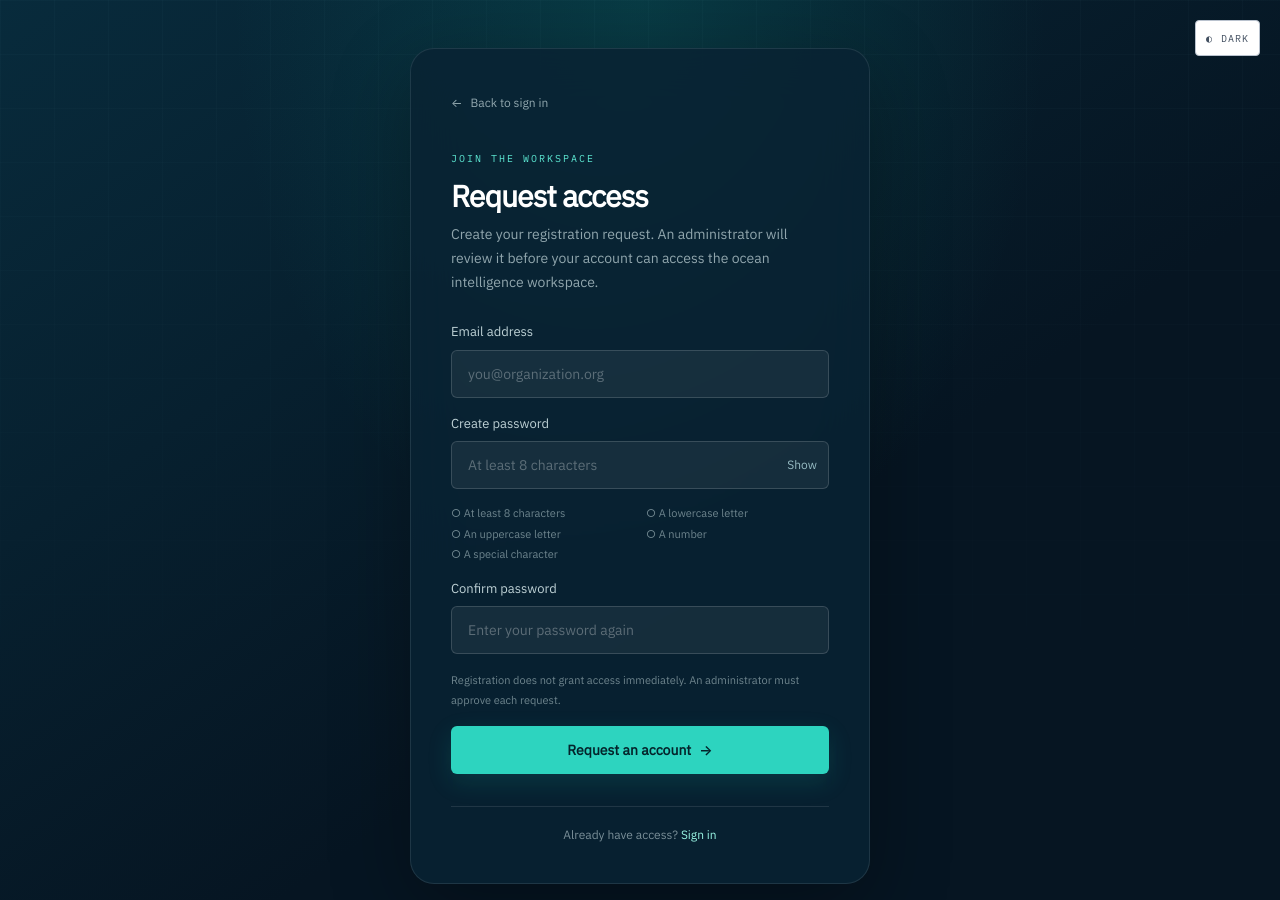
authentication screens › submits registration for admin review instead of signing the visitor in
The width and height of the screenshot is (1280, 900).
Type "pending@example.test" into the field labelled "Email address". click: [640, 374]
box: [451,350,829,398]
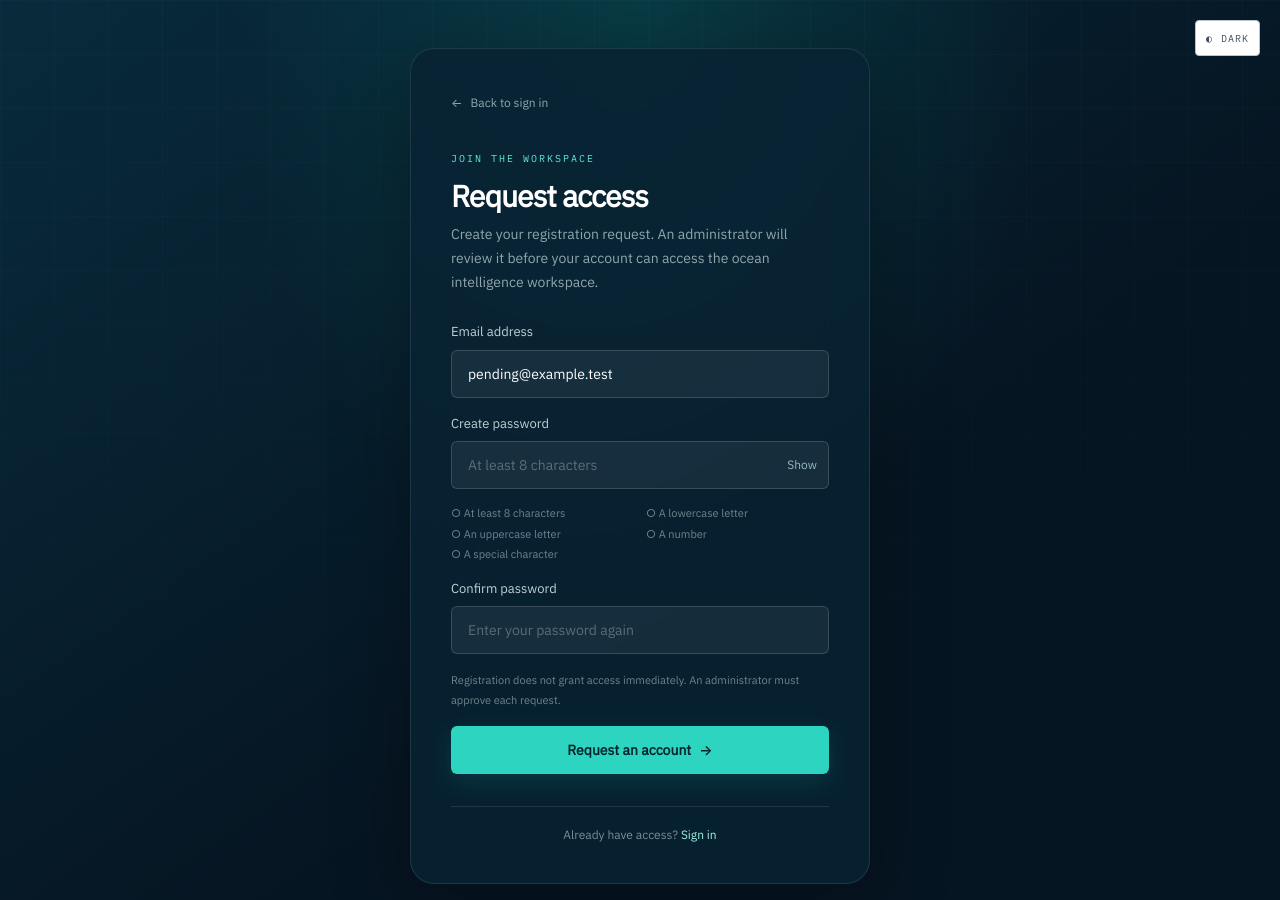
Type "Registration-password-123!" into the password field labelled "Create password". click: [640, 465]
box: [451,441,829,489]
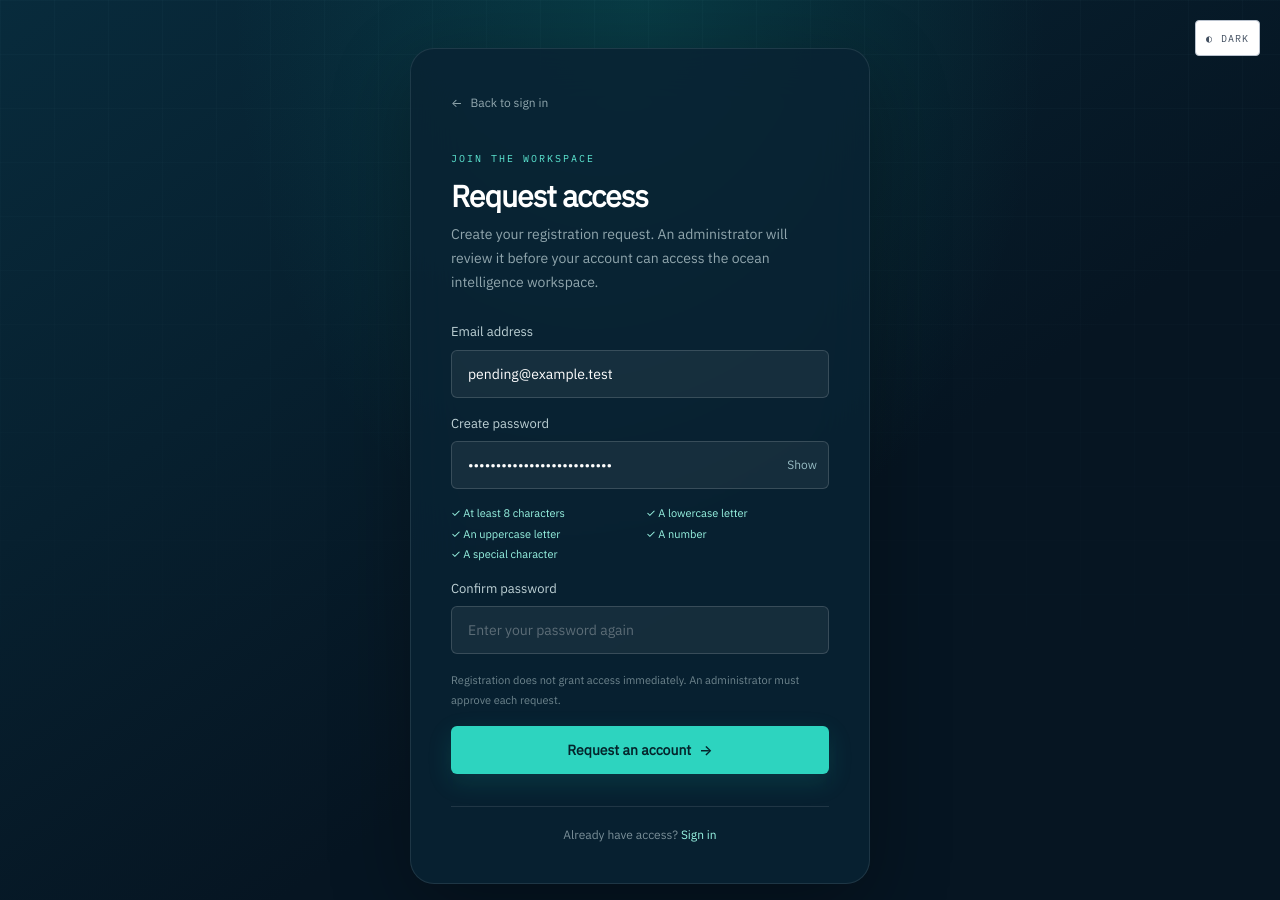
Type "Registration-password-123!" into the password field labelled "Confirm password". click: [640, 630]
box: [451,606,829,654]
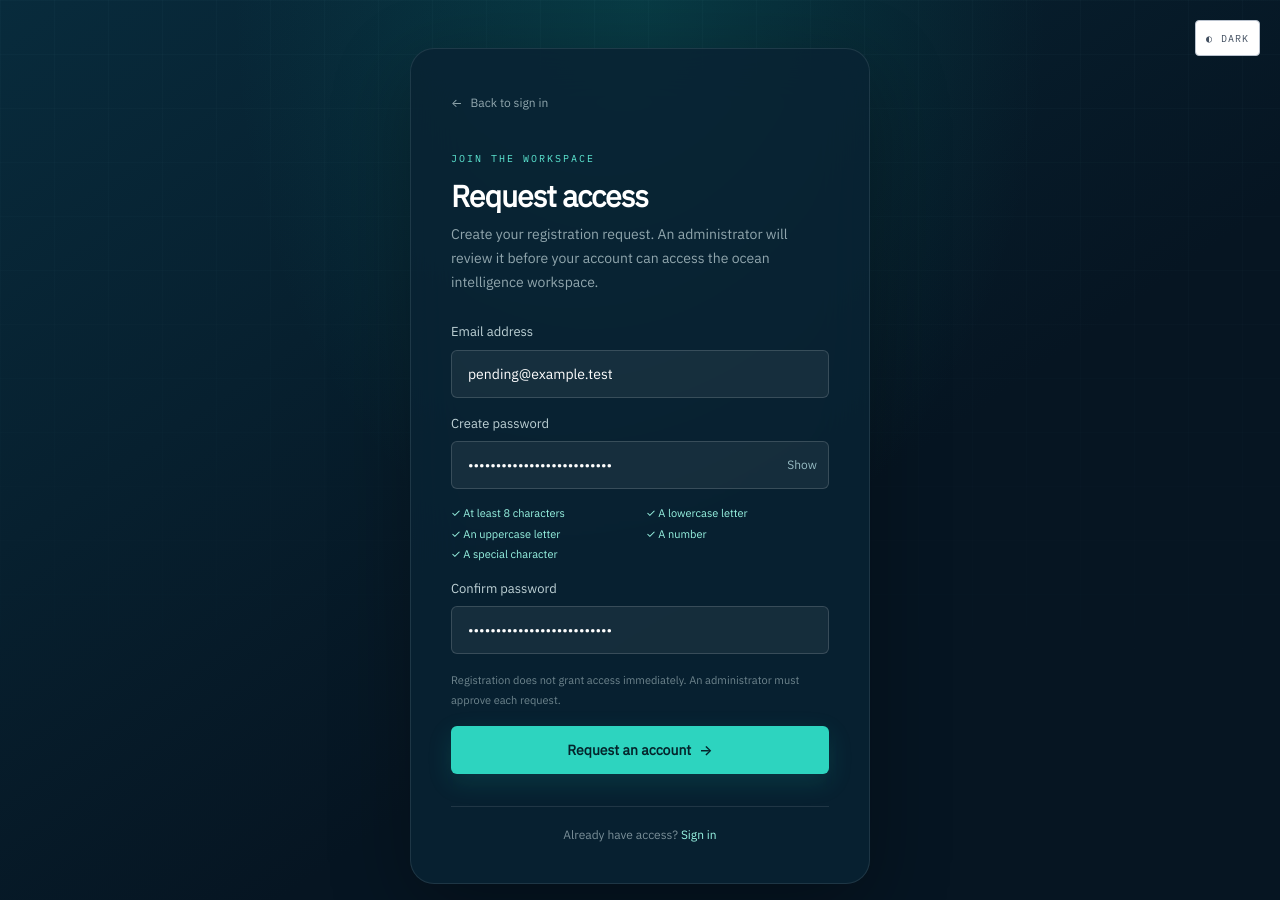
Click the button "Request an account →". click: [640, 750]
box: [451,726,829,774]
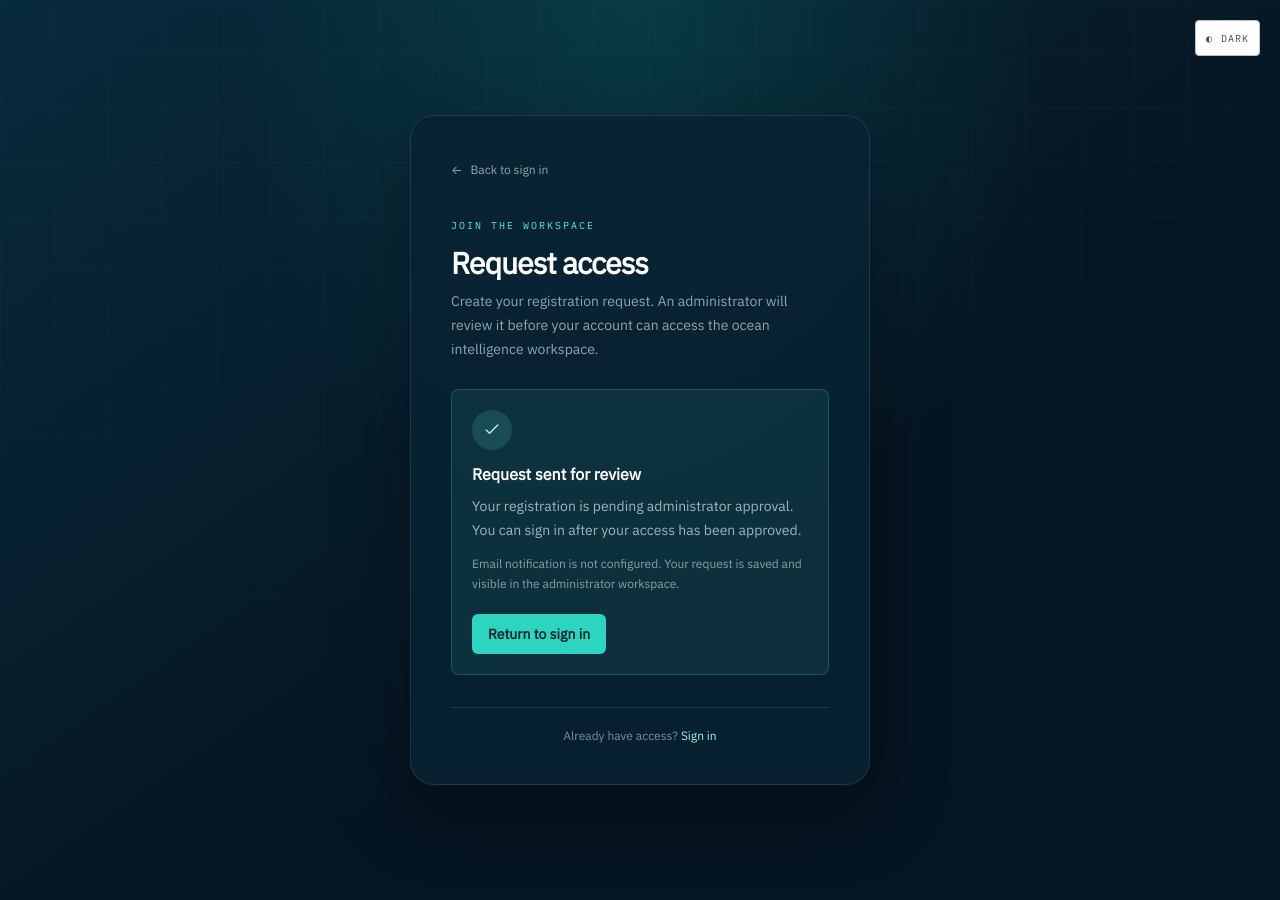
expect the message shows "Request sent for review": met, box [472,464,641,484]
expect the text "administrator approval" is shown: met, box [472,497,802,539]
